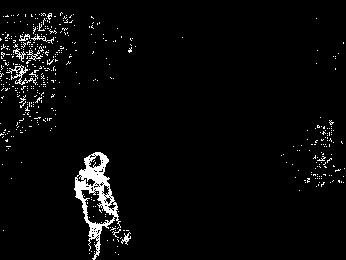person: (71, 149, 133, 260)
